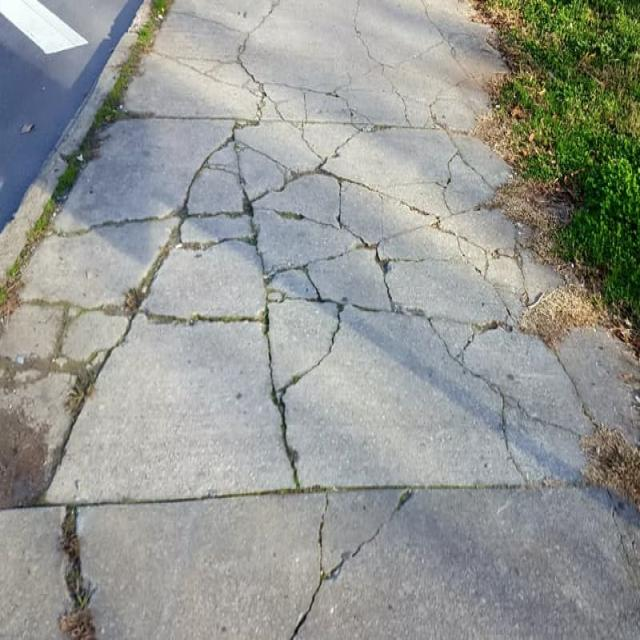Pothole: (31, 10, 640, 640)
